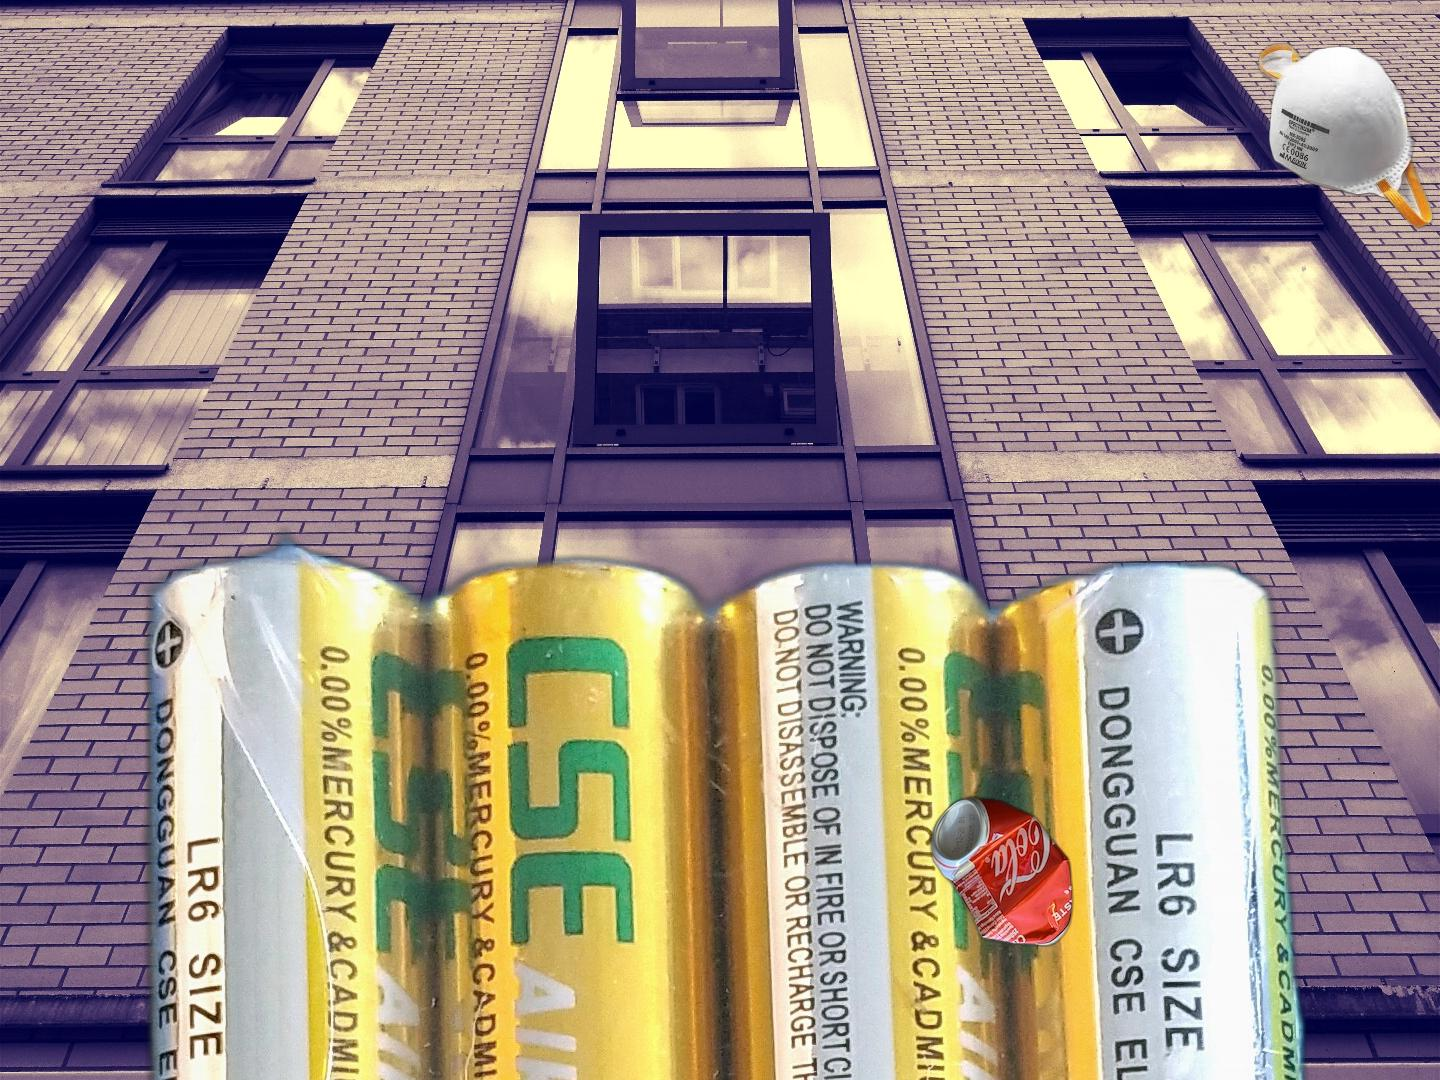battery: (124, 517, 1347, 1080)
metal-cans: (925, 790, 1078, 953), (196, 635, 310, 798)
trash: (1256, 40, 1437, 233)
